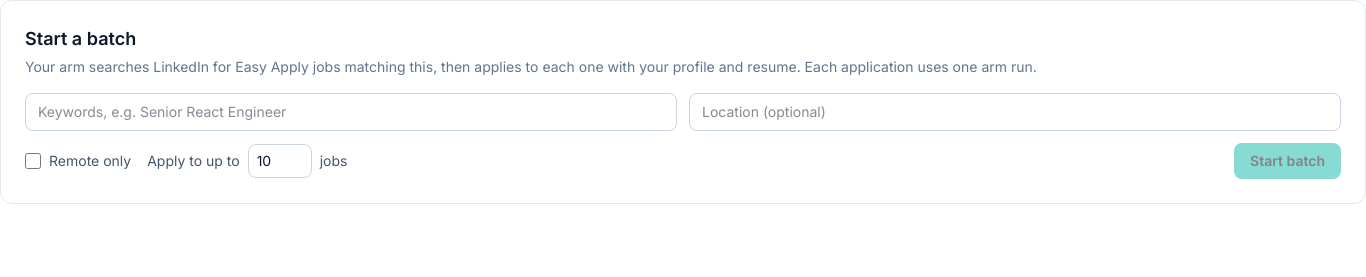
Test: starting a batch › surfaces the server's hint when the start is refused
Type "react engineer" into the field named "Search keywords" at (351, 112), box x1=25 y1=93 x2=677 y2=131
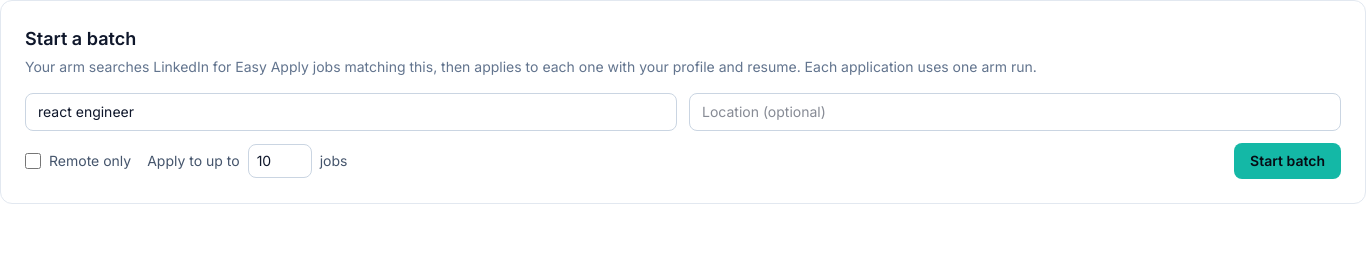
Click the button "Start batch" at (1288, 161), box x1=1234 y1=143 x2=1341 y2=179
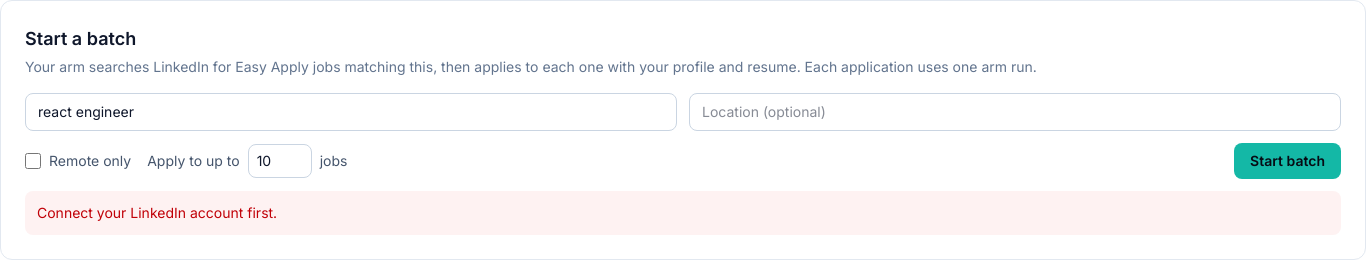
Check: the text "Connect your LinkedIn account first." is shown, box x1=25 y1=191 x2=1341 y2=235
